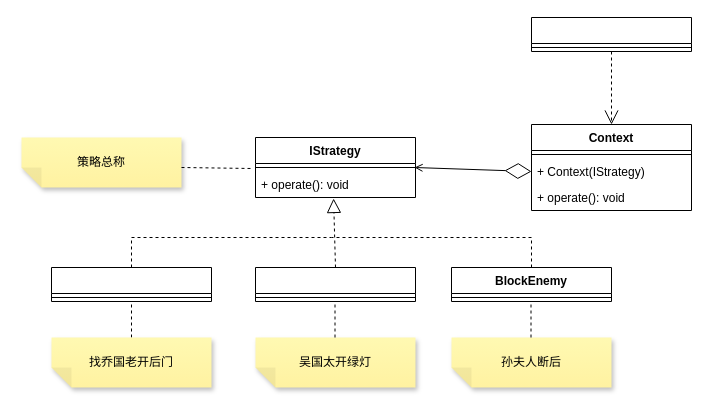
Image size: 709x412. Some labels were removed from this diagram. Here are the shapes that lost their labels. From the top down, the centre of each, then its label:
At point (611, 34): "ZhaoYun".
At point (131, 284): "BackDoor".
At point (335, 284): "GivenGreenLight".
